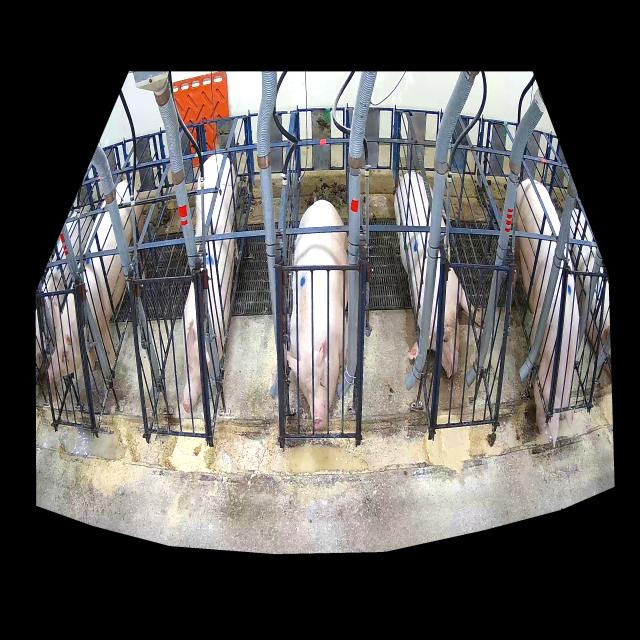pig: (48, 181, 147, 383), (395, 172, 482, 378), (512, 179, 579, 446), (182, 153, 238, 413), (290, 200, 348, 430)
